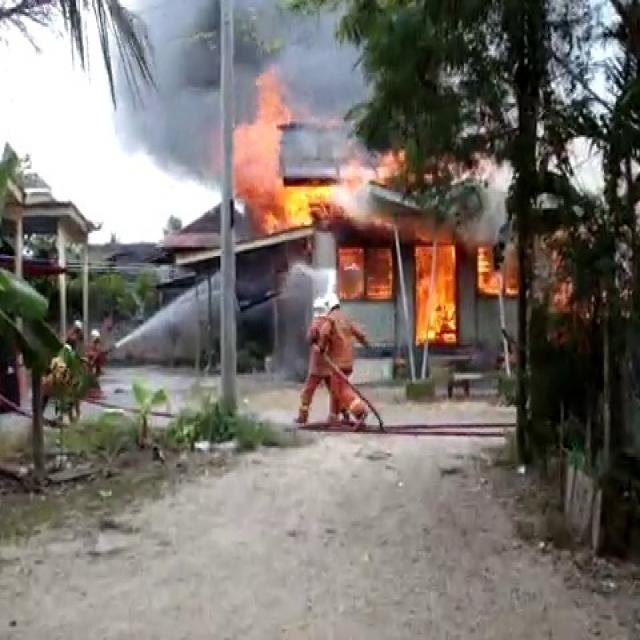fire: (231, 68, 572, 346)
